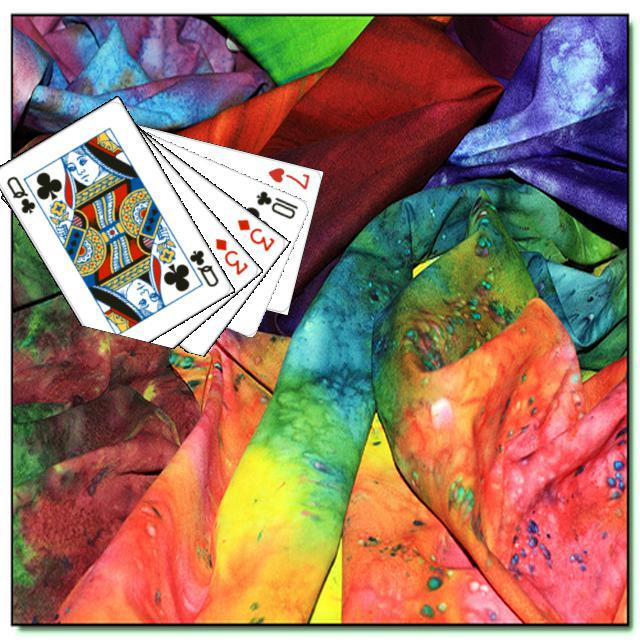10c: (251, 186, 300, 221)
3d: (210, 233, 250, 277), (232, 214, 276, 253)
7h: (263, 162, 311, 191)
Qc: (177, 245, 220, 289), (1, 171, 37, 215)
